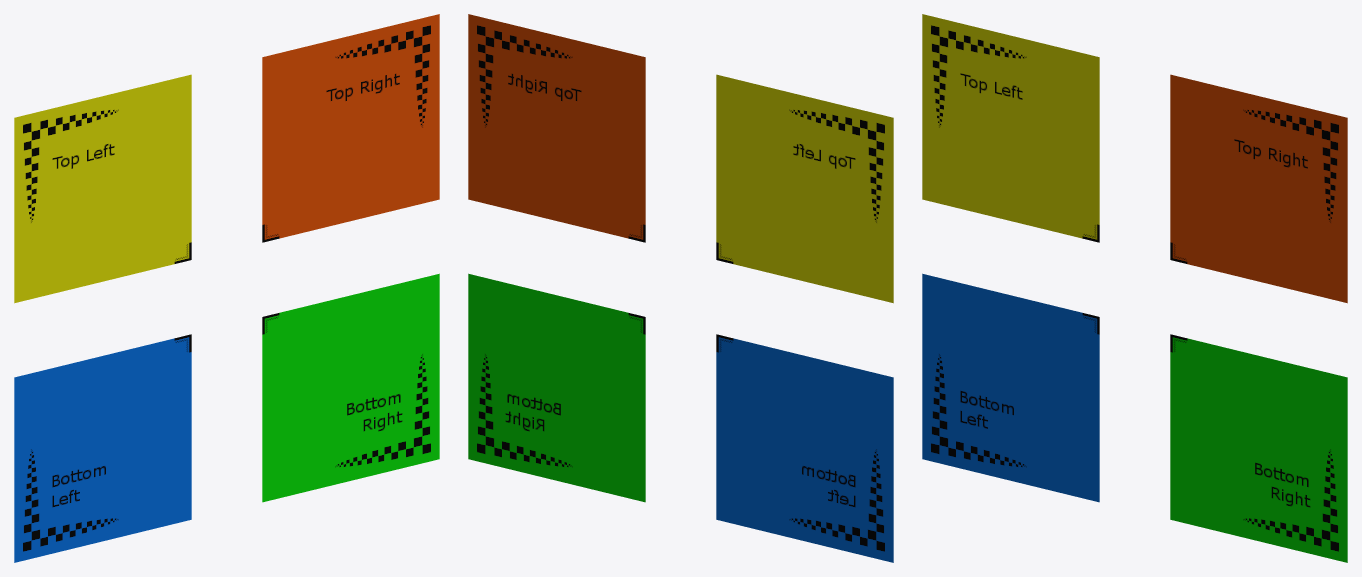
Rendered from TEXTURE_TEST.glb.
The picture shows the model from 3 angles, left to right: view 1: azimuth 30°, elevation 25°; view 2: azimuth 150°, elevation 25°; view 3: azimuth 330°, elevation 25°; orthographic projection.
Visible parts, largest first — view 1: BottomRightObj, TopLeftObj, BottomLeftObj, TopRightObj; view 2: BottomRightObj, TopLeftObj, BottomLeftObj, TopRightObj; view 3: BottomLeftObj, TopRightObj, BottomRightObj, TopLeftObj.
Boxes of the visible parts, bbox=[...] form: BottomRightObj: bbox=[262, 273, 439, 502]; TopLeftObj: bbox=[14, 74, 191, 303]; BottomLeftObj: bbox=[14, 334, 191, 562]; TopRightObj: bbox=[262, 14, 439, 242]; BottomRightObj: bbox=[468, 273, 645, 502]; TopLeftObj: bbox=[716, 74, 893, 303]; BottomLeftObj: bbox=[716, 334, 893, 562]; TopRightObj: bbox=[468, 14, 645, 242]; BottomLeftObj: bbox=[922, 273, 1099, 502]; TopRightObj: bbox=[1170, 74, 1347, 303]; BottomRightObj: bbox=[1170, 334, 1347, 562]; TopLeftObj: bbox=[922, 14, 1099, 242].
Size of the model in its own units: 2.4 by 2.4 by 8.63e-07.
4 materials, 4 textured.
